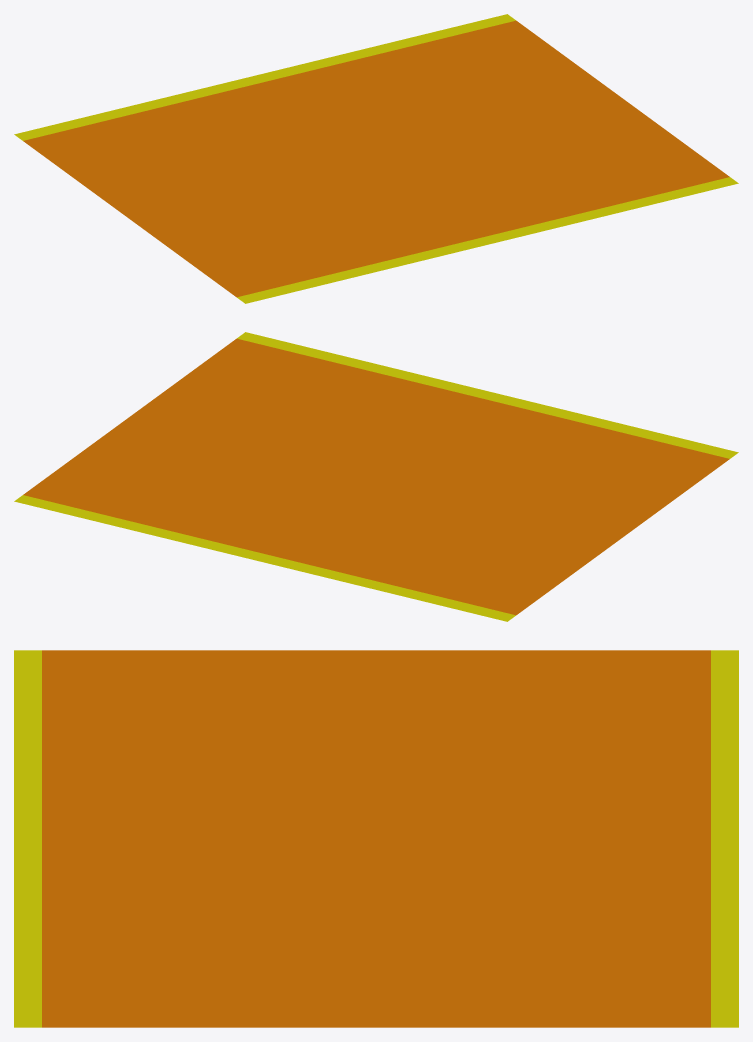
Rendered from Mesh_road.fbx.
3 renders of one model, top to bottom at view 1: azimuth 30°, elevation 25°; view 2: azimuth 150°, elevation 25°; view 3: azimuth 270°, elevation 25°, orthographic. The views are drawn at different scales.
Visible parts, largest first — view 1: Mesh_road; view 2: Mesh_road; view 3: Mesh_road.
Boxes of the visible parts, x1,y1,x2,y2 form: Mesh_road: (14, 14, 738, 303); Mesh_road: (14, 332, 738, 621); Mesh_road: (14, 650, 738, 1027).
Size of what is drawn, in the model's own units: 1600 by 0.000212 by 1300.
